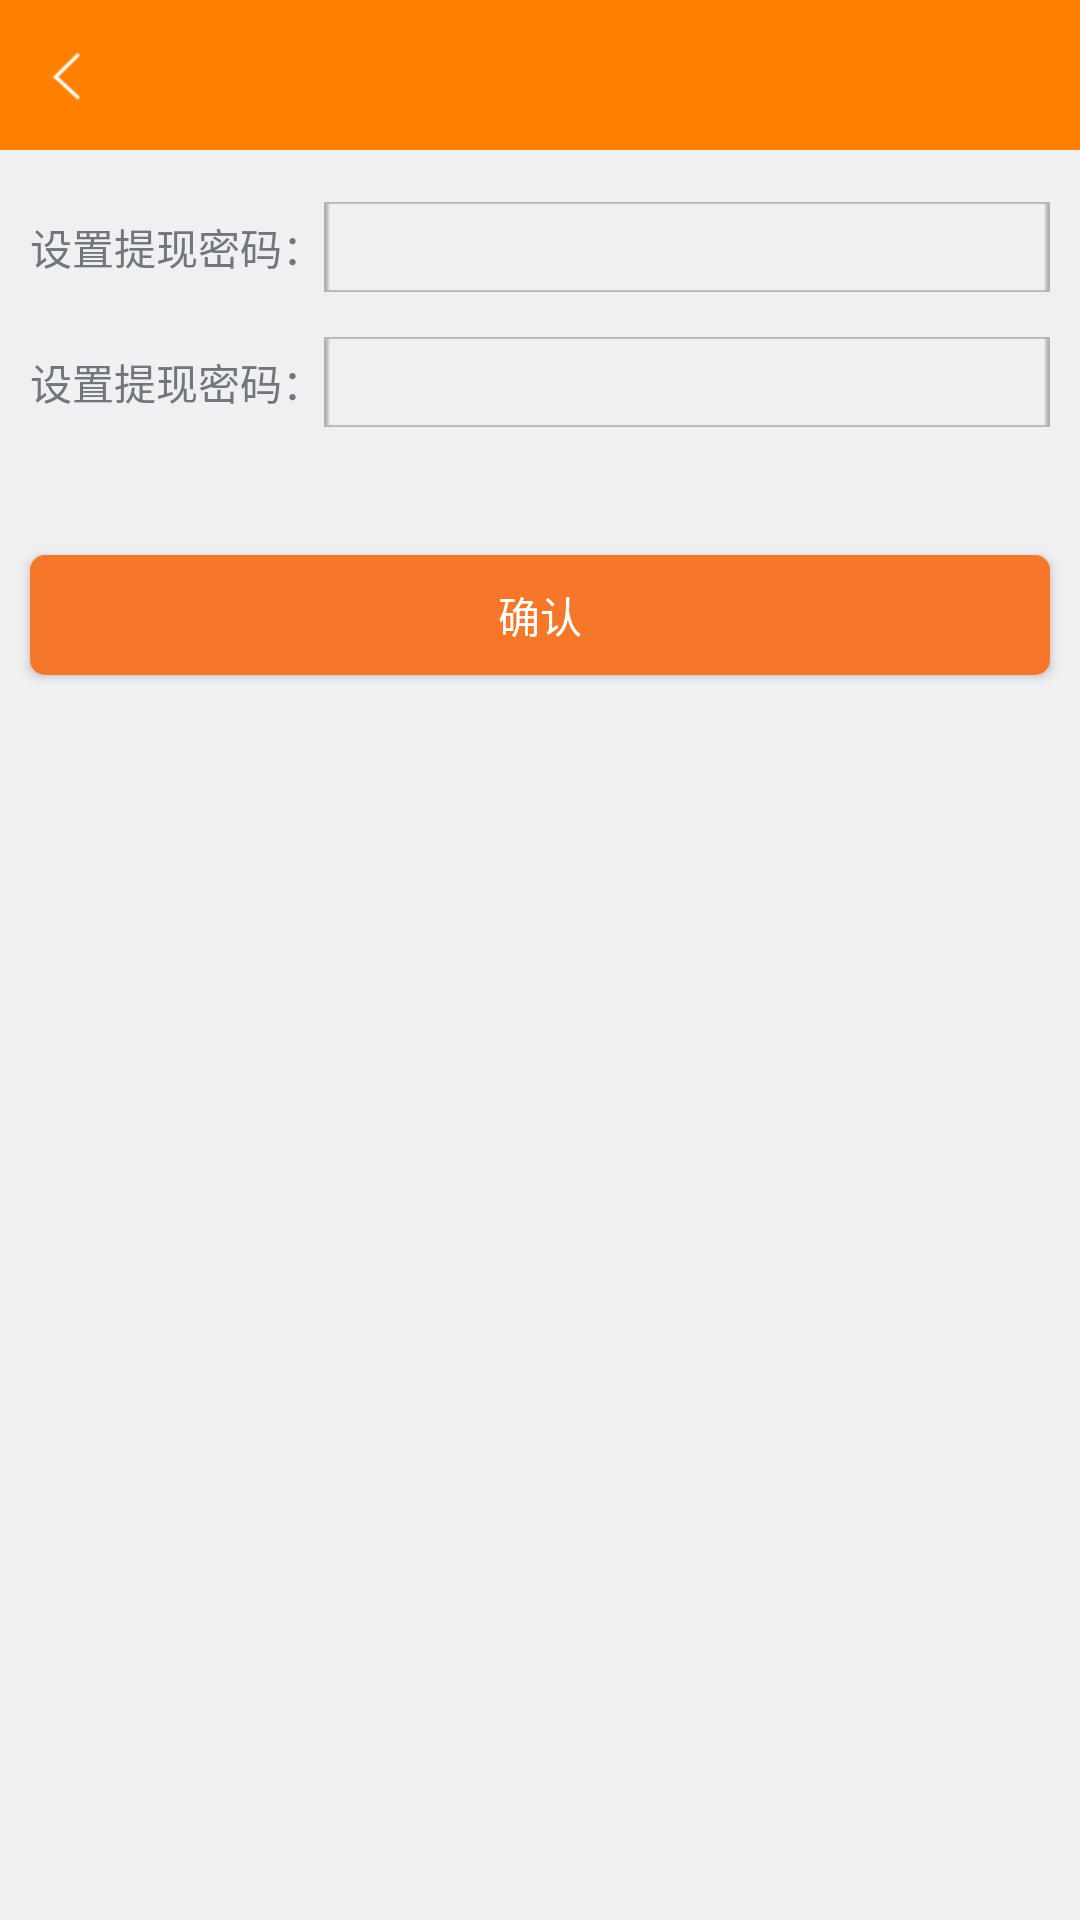

Icon click points for this 1080×1920 phone screenshot, format [x,y]:
title back: [67,76]
